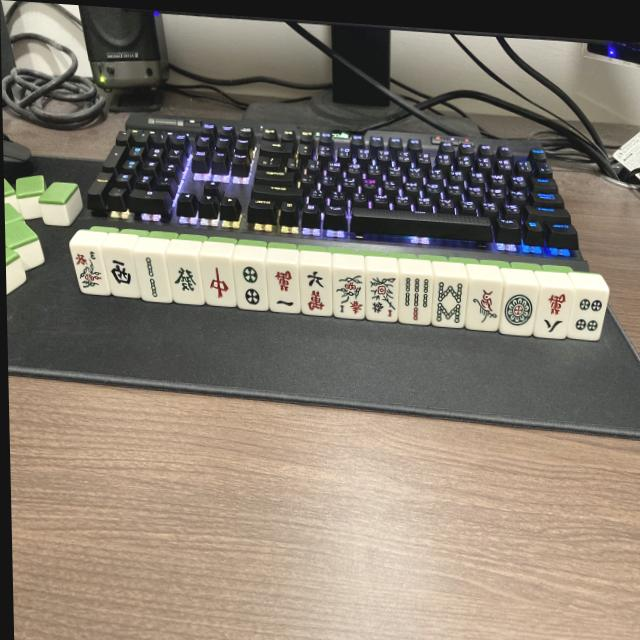f1: (365, 273, 399, 323)
fa: (166, 255, 205, 307)
ff1: (334, 272, 366, 320)
ff3: (69, 248, 109, 297)
m1: (266, 264, 301, 314)
m6: (300, 267, 333, 317)
m8: (532, 289, 572, 341)
s1: (465, 281, 502, 332)
s2: (134, 252, 171, 303)
s7: (397, 276, 431, 326)
s8: (433, 280, 468, 329)
t1: (498, 284, 537, 338)
t2: (233, 260, 269, 312)
t4: (567, 289, 608, 342)
west: (102, 250, 139, 301)
zhong: (200, 258, 236, 308)
